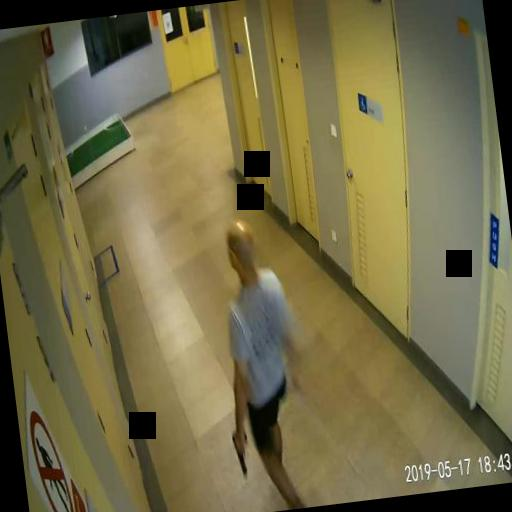Handgun: (230, 429, 250, 475)
